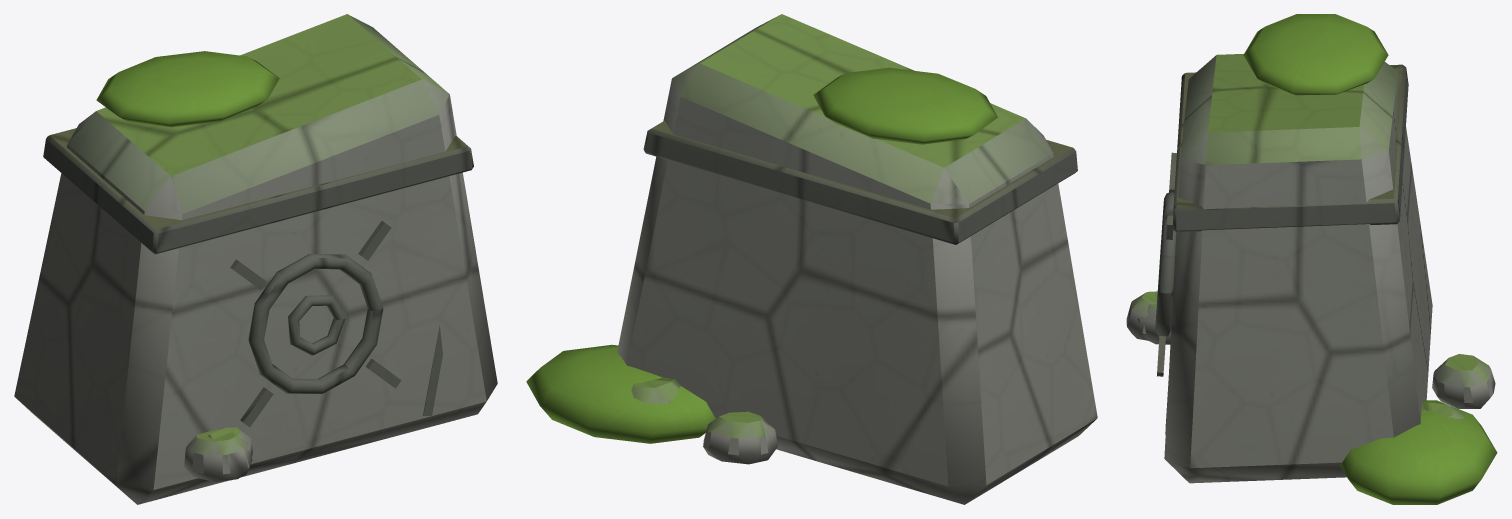
File: rune_stone.glb
3 renders of one model, left to right at view 1: azimuth 30°, elevation 25°; view 2: azimuth 150°, elevation 25°; view 3: azimuth 270°, elevation 25°, orthographic. The views are drawn at different scales.
Visible parts, largest first — view 1: rune_stone; view 2: rune_stone; view 3: rune_stone.
Part boxes in pixels (x1,y1,x2,y2): rune_stone: [14, 14, 497, 504]; rune_stone: [526, 14, 1097, 504]; rune_stone: [1126, 14, 1497, 504].
Size of the model in its own units: 1.5 by 1.17 by 1.12.
3 materials, 3 textured.
